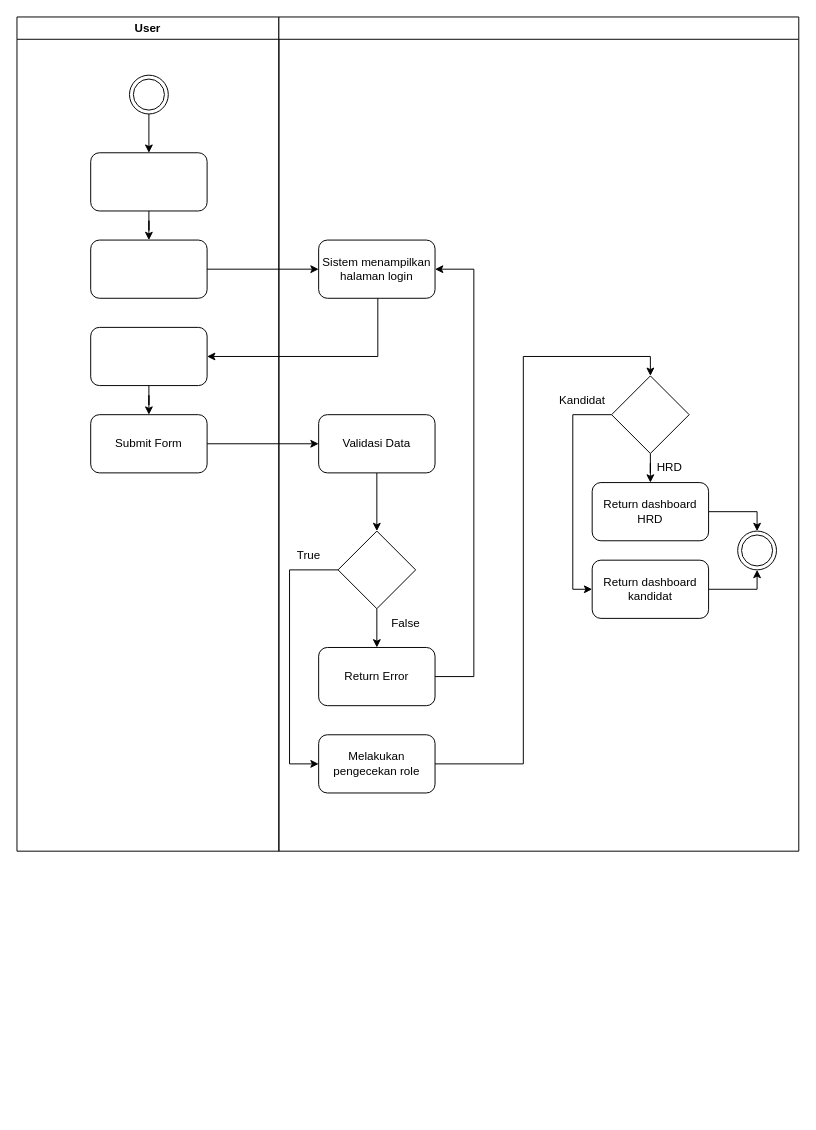
The diagram is 816 pixels wide and 1130 high, and some of its shapes have lost their labels. Here are the shapes that lost their labels. From the top down, the box of each, then its label:
(90, 152, 207, 211): Membuka website
(90, 239, 207, 298): Akses halaman login
(90, 326, 207, 386): User mengisi form login
(278, 16, 799, 851): System
